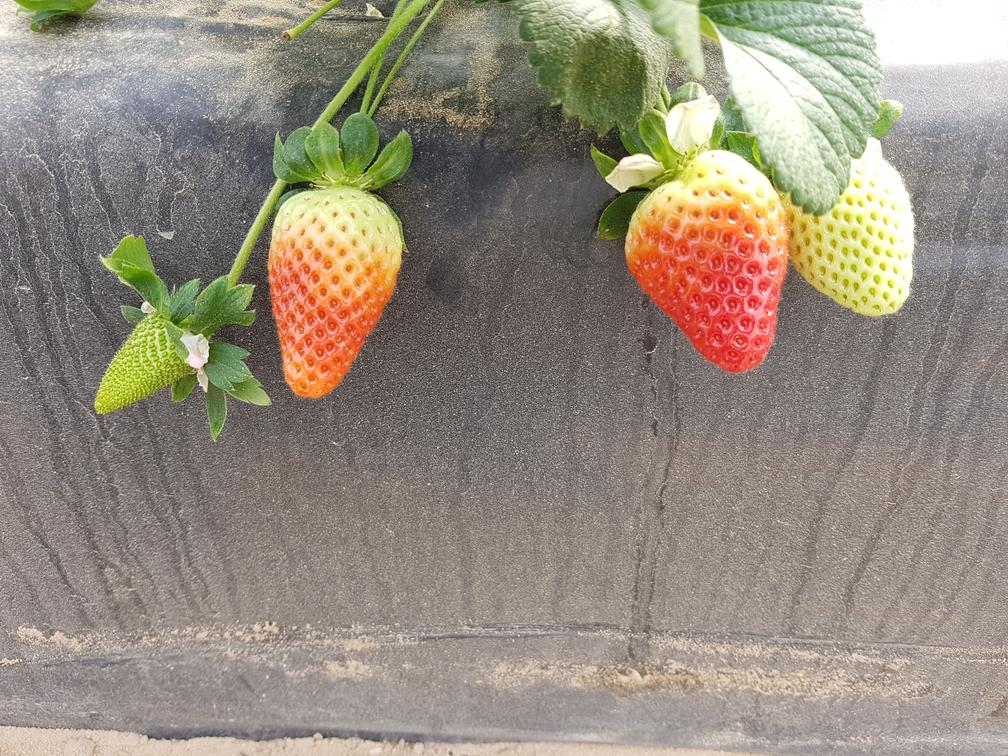Ripe: (623, 146, 782, 374), (270, 182, 403, 410)
Unripe: (784, 139, 923, 321), (90, 290, 213, 432)
